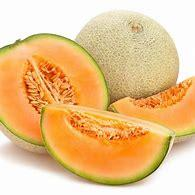Melon Ripe: (0, 33, 111, 153), (40, 104, 175, 188)
